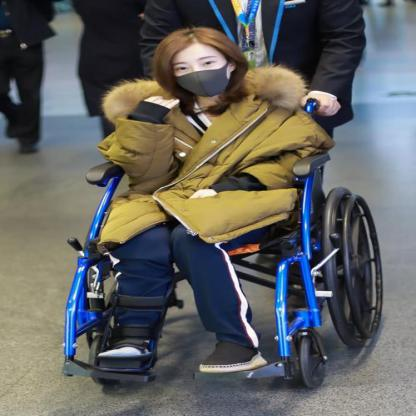wheelchair: (71, 23, 382, 392)
